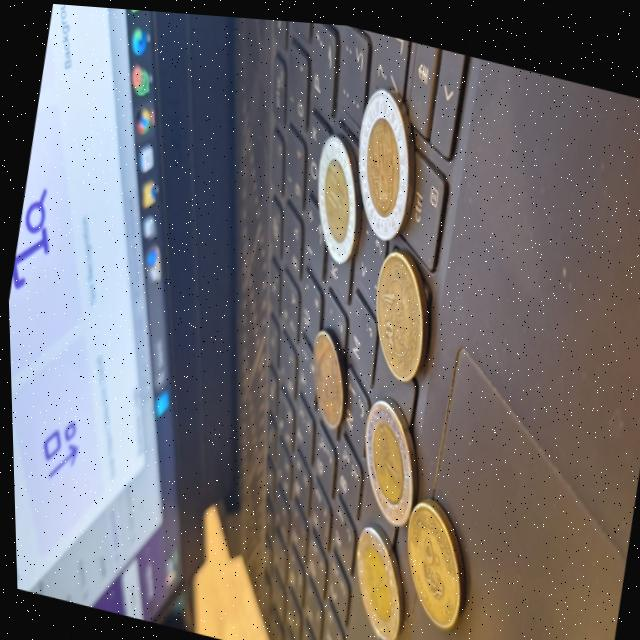Half Pound: (382, 486, 481, 631), (356, 239, 442, 381), (289, 318, 357, 435)
One Pound: (330, 58, 435, 245), (338, 381, 428, 522), (328, 506, 420, 640), (296, 123, 376, 268)
